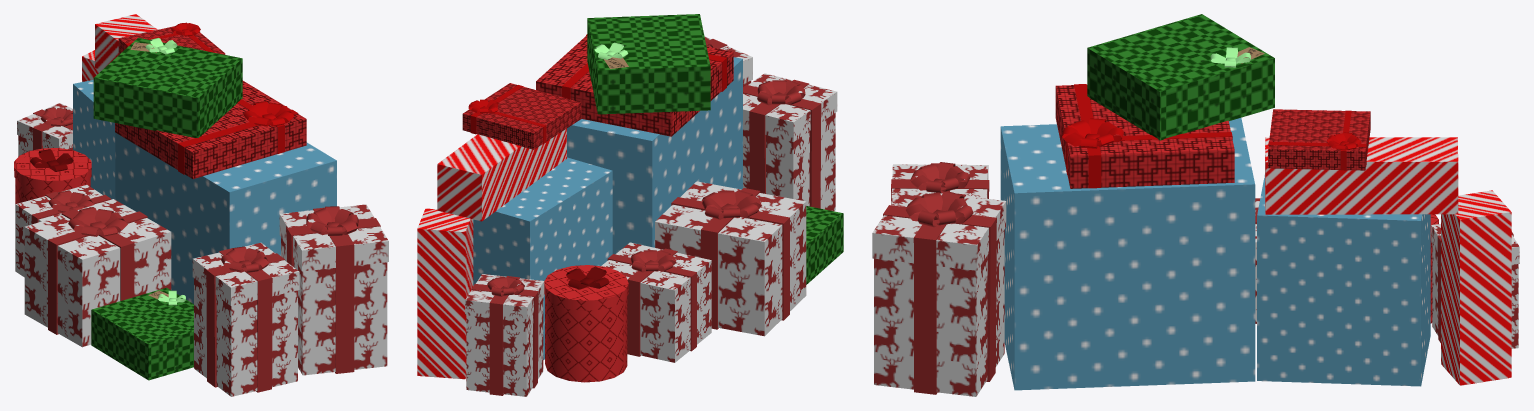
File: stacked_presents_01.fbx
3 views of the same model, side by side, from view 1: azimuth 30°, elevation 25°; view 2: azimuth 150°, elevation 25°; view 3: azimuth 270°, elevation 25° (orthographic). The views are drawn at different scales.
Parts seen in each view (by area): view 1: xmas_presents_stacked_01; view 2: xmas_presents_stacked_01; view 3: xmas_presents_stacked_01.
Part boxes in pixels (x1,y1,x2,y2): xmas_presents_stacked_01: (14,14,388,396); xmas_presents_stacked_01: (417,14,843,396); xmas_presents_stacked_01: (872,14,1519,396).
Bounding box in the file's own units: 91.72 × 86.27 × 177.
